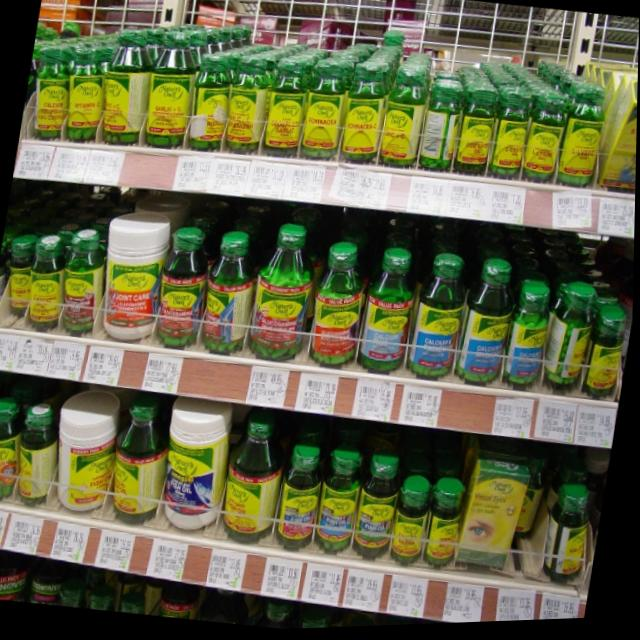q4: (301, 239, 380, 377), (199, 231, 270, 358), (150, 228, 217, 355)
